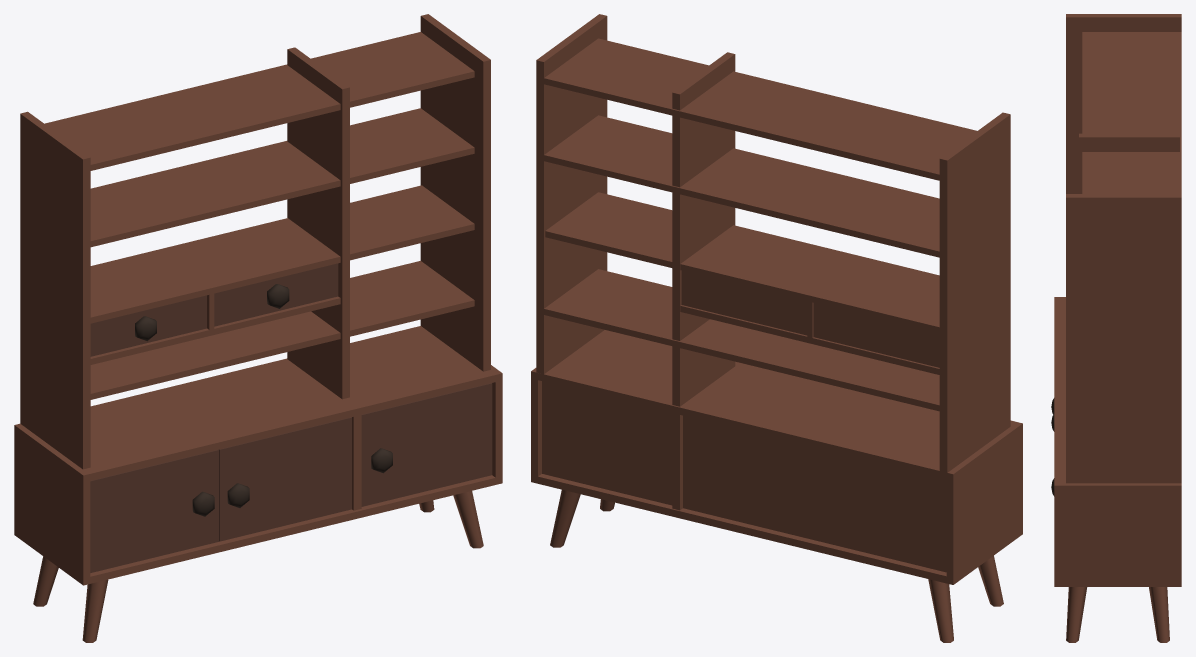
The model's file is Shelf_02.fbx.
3 views of the same model, side by side, from view 1: azimuth 30°, elevation 25°; view 2: azimuth 150°, elevation 25°; view 3: azimuth 270°, elevation 25° (orthographic). The views are drawn at different scales.
Parts seen in each view (by area): view 1: Shelf_02, Shelf_02_Door_R, Shelf_02_Door_Side, Shelf_02_Door_L, Shelf_02_Drawer_R, Shelf_02_Drawer_L; view 2: Shelf_02; view 3: Shelf_02.
Boxes of the visible parts, box(x1,y1,x2,y2) form: Shelf_02: box(14, 14, 502, 642); Shelf_02_Door_R: box(219, 417, 351, 541); Shelf_02_Door_Side: box(361, 383, 492, 506); Shelf_02_Door_L: box(90, 450, 218, 572); Shelf_02_Drawer_R: box(214, 263, 338, 326); Shelf_02_Drawer_L: box(90, 295, 206, 356); Shelf_02: box(531, 14, 1022, 642); Shelf_02: box(1054, 14, 1181, 642).
Bounding box in the file's own units: 1.63 × 1.81 × 0.4767.
